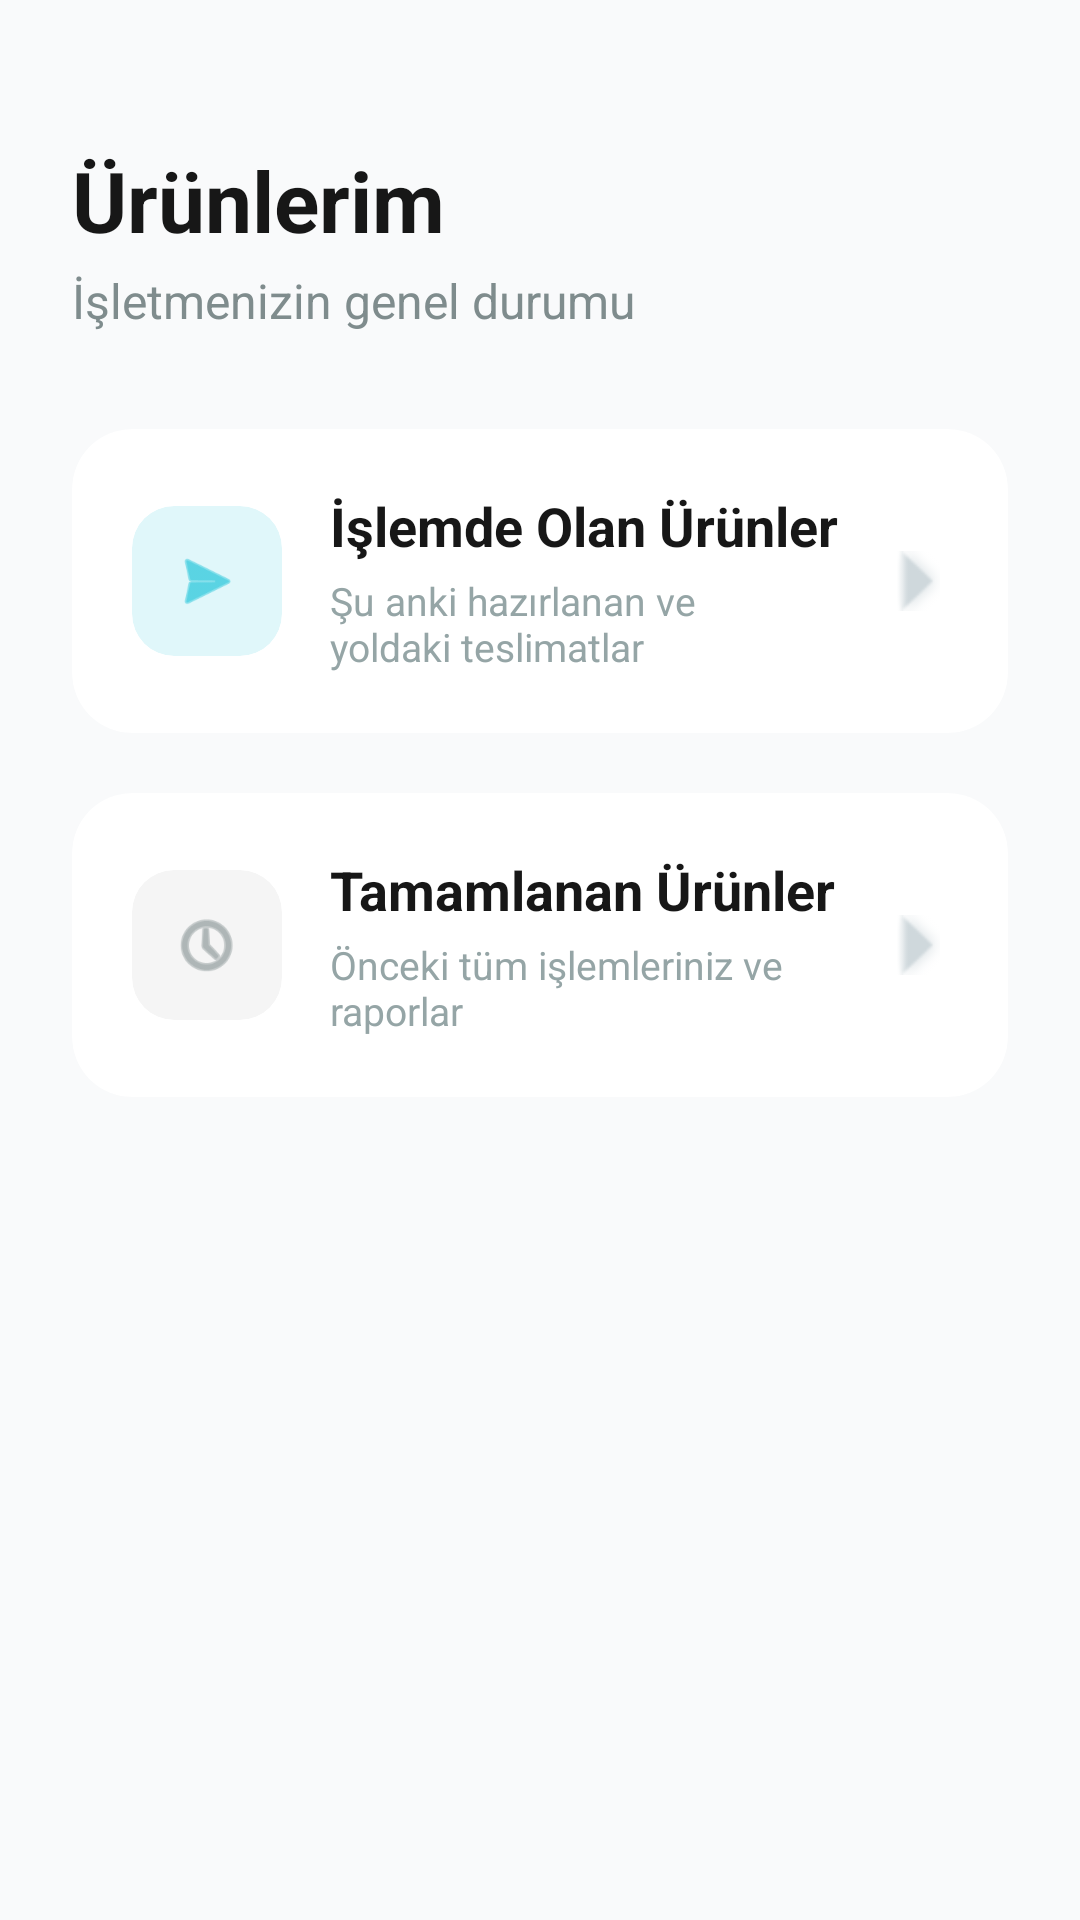

Where icons sit on this 1080 × 1920 app screen, as (x1, y1, x2, y2):
recent history: (181, 919, 233, 971)
send: (185, 559, 231, 604)
